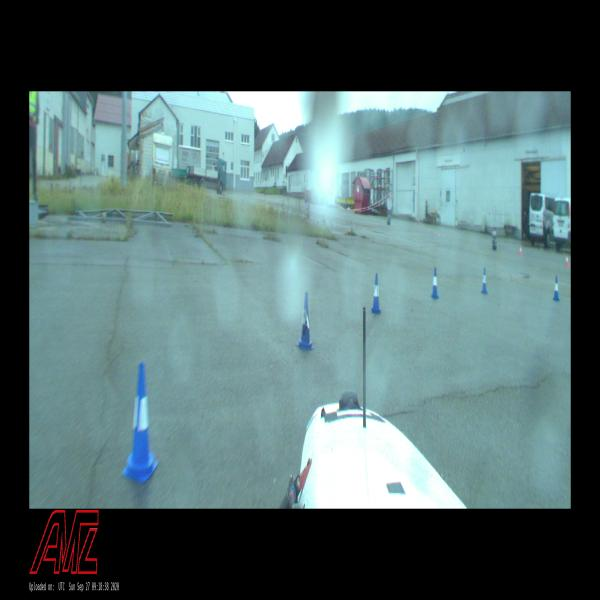blue_cone: (121, 362, 159, 486), (297, 293, 314, 349), (371, 273, 381, 313), (431, 267, 439, 299), (552, 277, 560, 300), (481, 268, 488, 294)
orange_cone: (519, 246, 522, 256), (566, 253, 568, 267)
